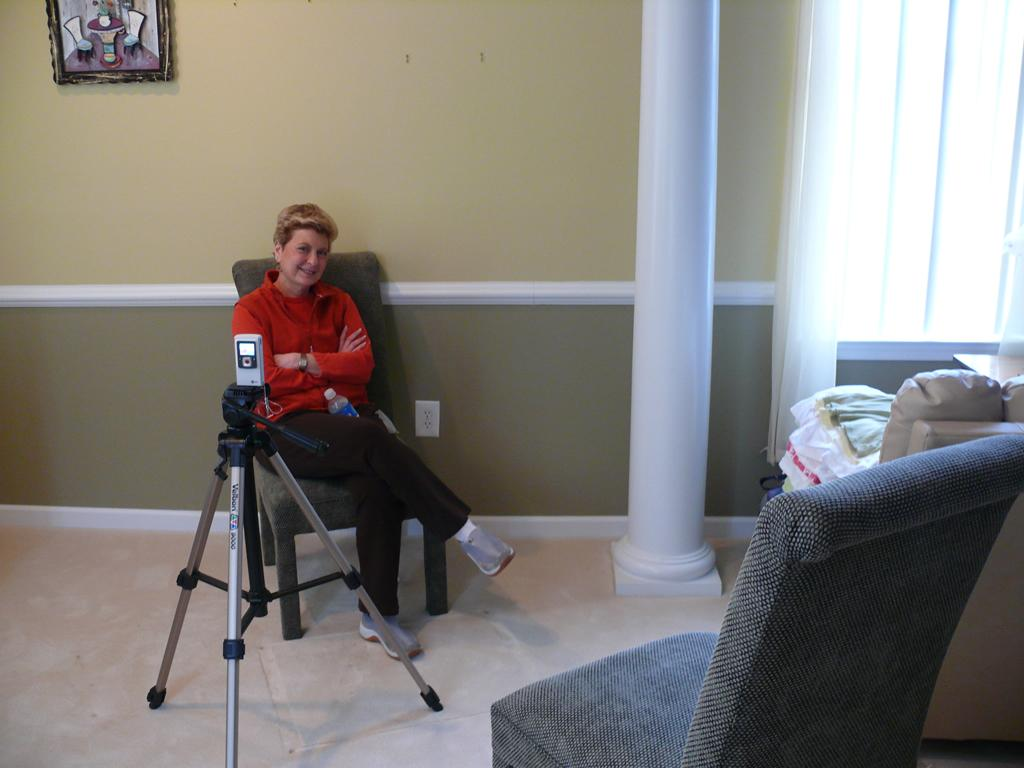face: (282, 230, 329, 287)
